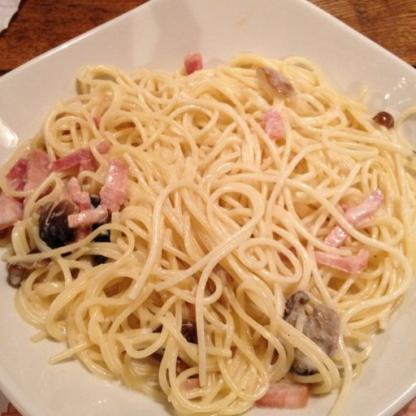pasta: (15, 54, 416, 415)
